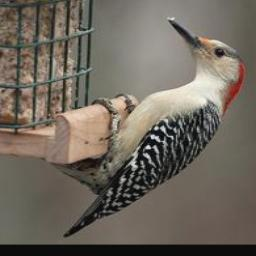Woodpecker: (50, 16, 247, 238)
